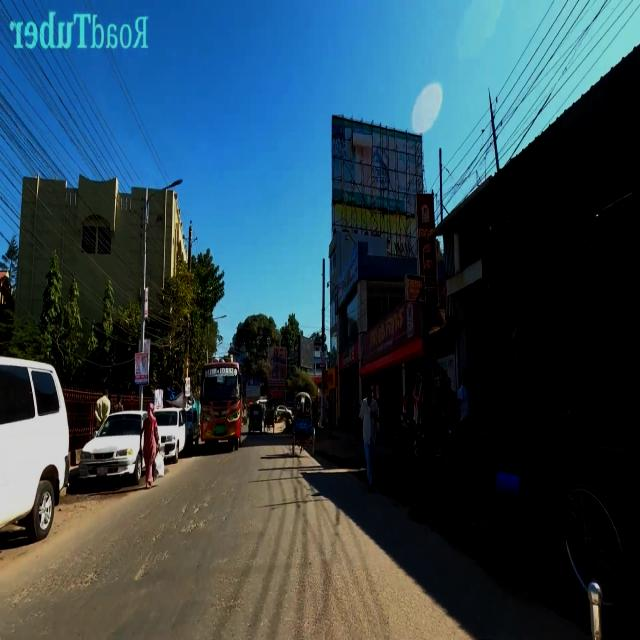white: (0, 348, 72, 539), (75, 406, 146, 492), (156, 403, 186, 467)
